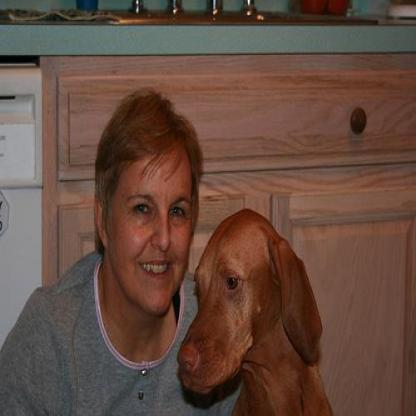vizsla: (174, 205, 334, 413)
